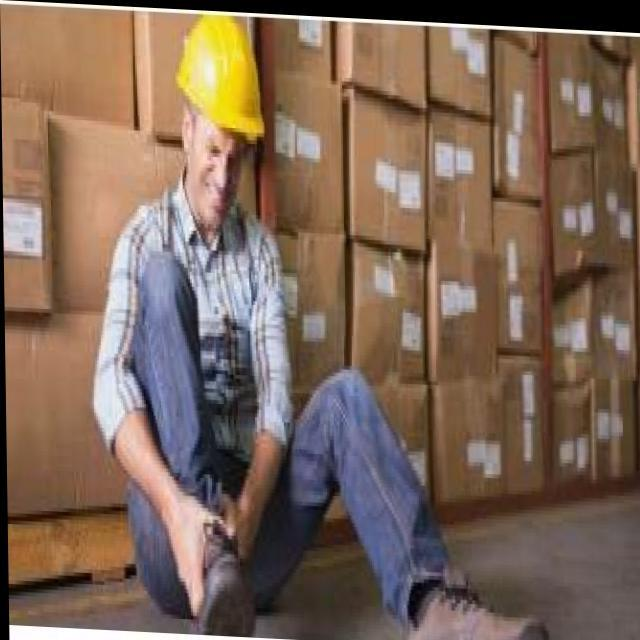boots: (186, 513, 557, 640)
helmet: (165, 9, 271, 240)
